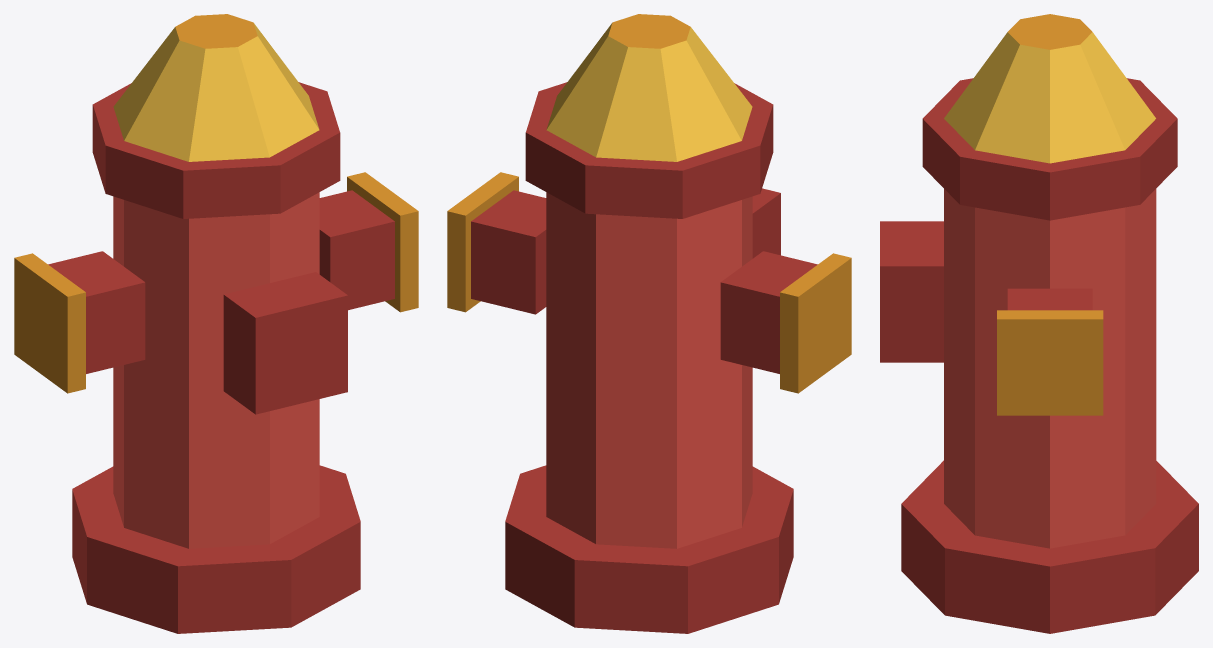
The model's file is P_Hydrant2.fbx.
The picture shows the model from 3 angles, left to right: view 1: azimuth 30°, elevation 25°; view 2: azimuth 150°, elevation 25°; view 3: azimuth 270°, elevation 25°; orthographic projection.
Visible parts, largest first — view 1: P_Hydrant2; view 2: P_Hydrant2; view 3: P_Hydrant2.
Boxes of the visible parts, x1,y1,x2,y2 form: P_Hydrant2: (14, 14, 418, 633); P_Hydrant2: (447, 14, 851, 633); P_Hydrant2: (880, 14, 1198, 633).
Size of the model in its own units: 0.38 by 0.56 by 0.3.
